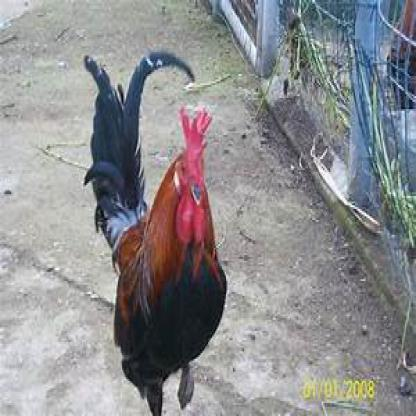chicken: (82, 52, 233, 414)
